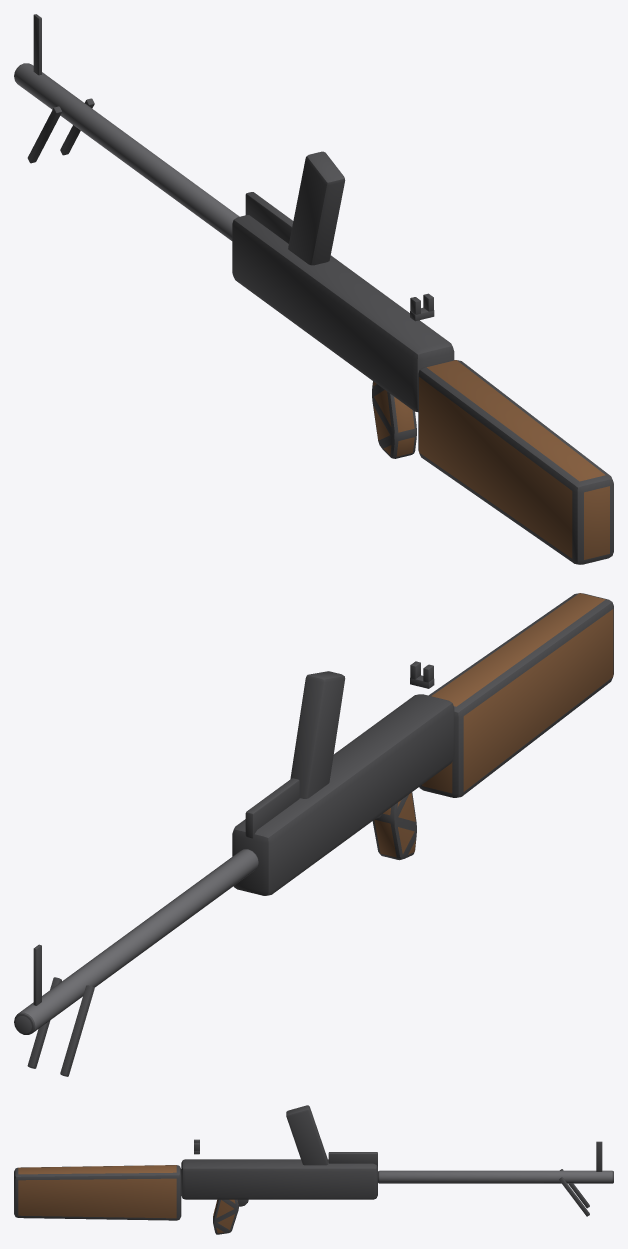
The model's file is bren.glb.
The picture shows the model from 3 angles, top to bottom: view 1: azimuth 30°, elevation 25°; view 2: azimuth 150°, elevation 25°; view 3: azimuth 270°, elevation 25°; orthographic projection. The views are drawn at different scales.
Parts seen in each view (by area): view 1: bren_LOD0; view 2: bren_LOD0; view 3: bren_LOD0.
Boxes of the visible parts, x1,y1,x2,y2 form: bren_LOD0: [14, 14, 613, 564]; bren_LOD0: [14, 593, 613, 1076]; bren_LOD0: [14, 1105, 613, 1234].
Bounding box in the file's own units: 0.0549 × 0.2817 × 1.22.
